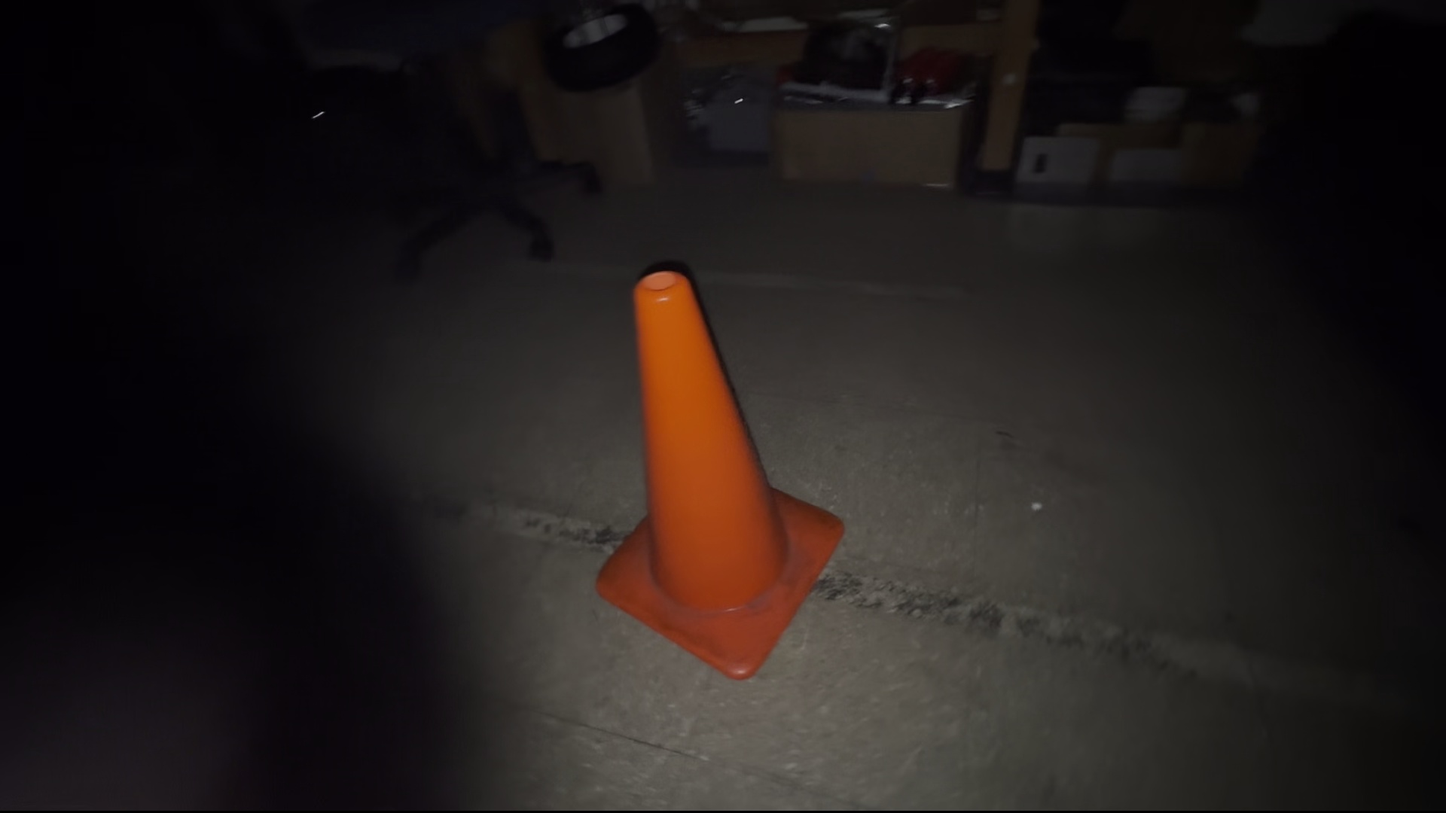traffic_cone: (594, 265, 845, 681)
